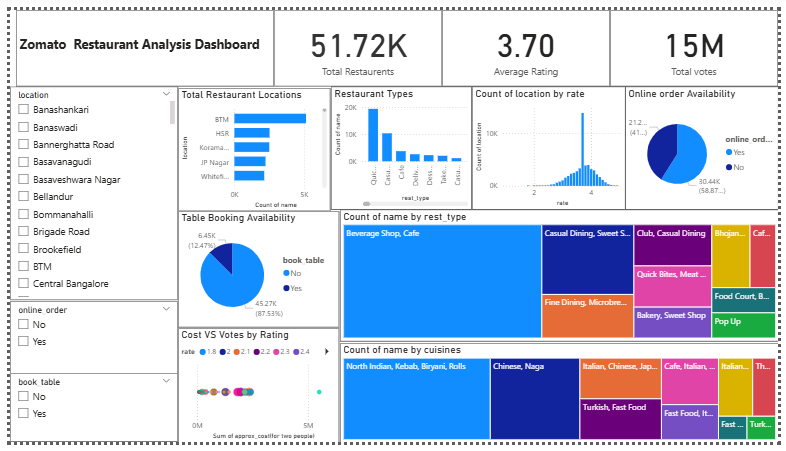

This screenshot's page, from the dashboard's own definition file:
{"tool":"powerbi","page":{"name":"Page 1","canvas":[1280,720],"ordinal":0},"visuals":[{"type":"card","fields":{"Values":["CountNonNull(zomato_cleaned.name)"]},"box":[440,0,280,127.5],"z":0},{"type":"card","fields":{"Values":["Avg(zomato_cleaned.rate)"]},"box":[720,0,280,127.5],"z":1000},{"type":"card","fields":{"Values":["Sum(zomato_cleaned.votes)"]},"box":[1000,0,280,127.5],"z":2000},{"type":"slicer","fields":{"Values":["zomato_cleaned.location"]},"box":[0,127.9,280.1,356.2],"z":3000},{"type":"slicer","fields":{"Values":["zomato_cleaned.online_order"]},"box":[0,484.1,280.1,121.4],"z":4000},{"type":"slicer","fields":{"Values":["zomato_cleaned.book_table"]},"box":[0,605.6,280.1,115],"z":5000},{"type":"clusteredBarChart","title":"Total Restaurant Locations","fields":{"Category":["zomato_cleaned.location"],"Y":["CountNonNull(zomato_cleaned.name)"]},"box":[280.1,129.5,254.2,205.6],"z":6000},{"type":"pieChart","title":"Online order Availability","fields":{"Category":["zomato_cleaned.online_order"],"Y":["CountNonNull(zomato_cleaned.name)"]},"box":[1025,127.9,255.8,205.6],"z":7000},{"type":"pieChart","title":"Table Booking Availability","fields":{"Category":["zomato_cleaned.book_table"],"Y":["CountNonNull(zomato_cleaned.name)"]},"box":[280.1,335.2,268.8,194.3],"z":8000},{"type":"clusteredColumnChart","title":"Restaurant Types","fields":{"Category":["zomato_cleaned.rest_type"],"Y":["CountNonNull(zomato_cleaned.name)"]},"box":[534.3,127.9,234.8,205.6],"z":9000},{"type":"clusteredColumnChart","fields":{"Y":["CountNonNull(zomato_cleaned.location)"],"Category":["zomato_cleaned.rate"]},"box":[769.1,127.9,255.8,205.6],"z":10000},{"type":"scatterChart","title":"Cost VS Votes  by Rating","fields":{"X":["Sum(zomato_cleaned.approx_cost(for two people))"],"Series":["zomato_cleaned.rate"],"Size":["Sum(zomato_cleaned.votes)"]},"box":[280.1,529.5,268.8,191.1],"z":11000},{"type":"treemap","fields":{"Group":["zomato_cleaned.rest_type"],"Values":["CountNonNull(zomato_cleaned.name)"]},"box":[548.9,333.6,731.9,220.2],"z":12000},{"type":"treemap","fields":{"Group":["zomato_cleaned.cuisines"],"Values":["CountNonNull(zomato_cleaned.name)"]},"box":[548.9,553.8,731.9,166.8],"z":13000},{"type":"textbox","box":[10,0,430,127.5],"z":14000}]}

Visuals, with their boxes in screenshot pixels (x1, y1, x2, y2), scaled from the page's 1280x720 canvas onto the 786x451 screenshot:
card - CountNonNull(zomato_cleaned.name): Rect(270, 0, 442, 80)
card - Avg(zomato_cleaned.rate): Rect(442, 0, 614, 80)
card - Sum(zomato_cleaned.votes): Rect(614, 0, 785, 80)
slicer - zomato_cleaned.location: Rect(0, 80, 172, 303)
slicer - zomato_cleaned.online_order: Rect(0, 303, 172, 379)
slicer - zomato_cleaned.book_table: Rect(0, 379, 172, 450)
"Total Restaurant Locations" clusteredBarChart: Rect(172, 81, 328, 210)
"Online order Availability" pieChart: Rect(629, 80, 785, 209)
"Table Booking Availability" pieChart: Rect(172, 210, 337, 332)
"Restaurant Types" clusteredColumnChart: Rect(328, 80, 472, 209)
clusteredColumnChart - CountNonNull(zomato_cleaned.location) x zomato_cleaned.rate: Rect(472, 80, 629, 209)
"Cost VS Votes  by Rating" scatterChart: Rect(172, 332, 337, 450)
treemap - zomato_cleaned.rest_type x CountNonNull(zomato_cleaned.name): Rect(337, 209, 785, 347)
treemap - zomato_cleaned.cuisines x CountNonNull(zomato_cleaned.name): Rect(337, 347, 785, 450)
textbox: Rect(6, 0, 270, 80)
